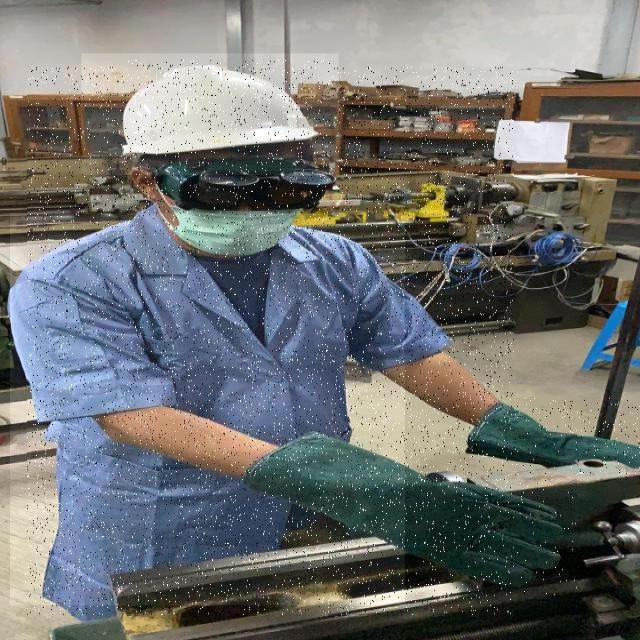Helmet: (10, 214, 405, 606), (82, 53, 338, 175)
